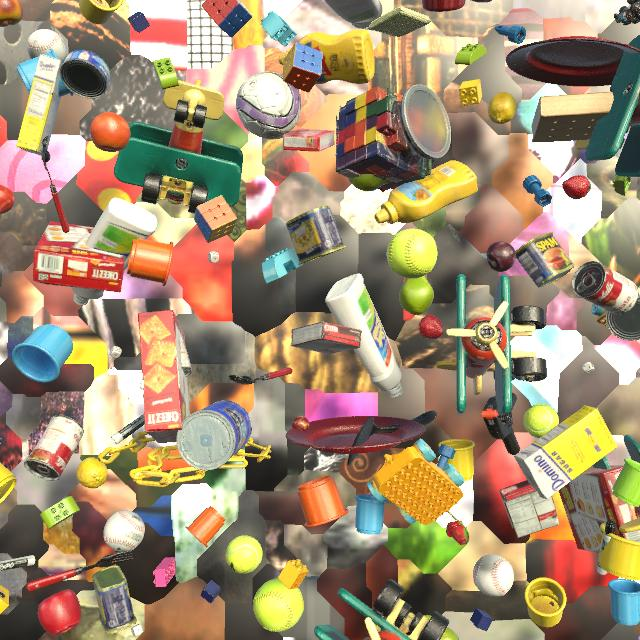ycb_002_master_chef_can: (176, 400, 252, 470)
ycb_003_cracker_box: (559, 465, 640, 553), (138, 310, 190, 443), (33, 221, 125, 292)
ycb_004_sugar_box: (514, 405, 618, 499), (16, 54, 63, 156)
ycb_005_tomato_soup_can: (24, 415, 84, 481), (572, 261, 639, 314), (178, 321, 192, 377)
ycb_006_mustard_bottle: (375, 161, 478, 224), (279, 29, 374, 84)
ycb_007_tuna_fish_can: (60, 49, 111, 99), (605, 294, 640, 341)
ycb_008_pudding_box: (499, 480, 559, 539), (291, 321, 362, 355)
ycb_009_gelatin_box: (283, 128, 335, 152)
ycb_010_potted_meat_can: (286, 205, 346, 265), (515, 232, 575, 287), (92, 565, 137, 634)
ycb_012_strawberry: (562, 175, 591, 200), (418, 314, 443, 339)
ycb_013_apple: (38, 589, 81, 636), (471, 0, 492, 3)
ycb_014_lemon: (76, 457, 108, 488), (488, 92, 517, 124)
ycb_015_peach: (0, 0, 23, 27)
ycb_016_pear: (399, 276, 434, 315), (419, 615, 459, 640), (348, 174, 390, 192)
ycb_017_orange: (90, 112, 130, 152)
ycb_018_plum: (486, 241, 516, 272)
